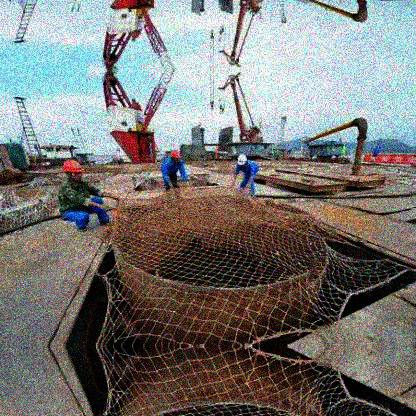helmet: (63, 159, 84, 182), (171, 147, 182, 164), (238, 155, 248, 170)
